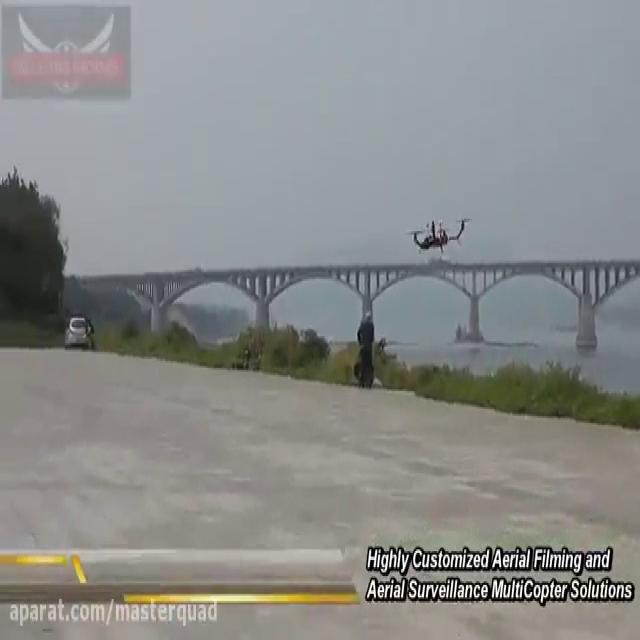drone: (406, 210, 472, 256)
